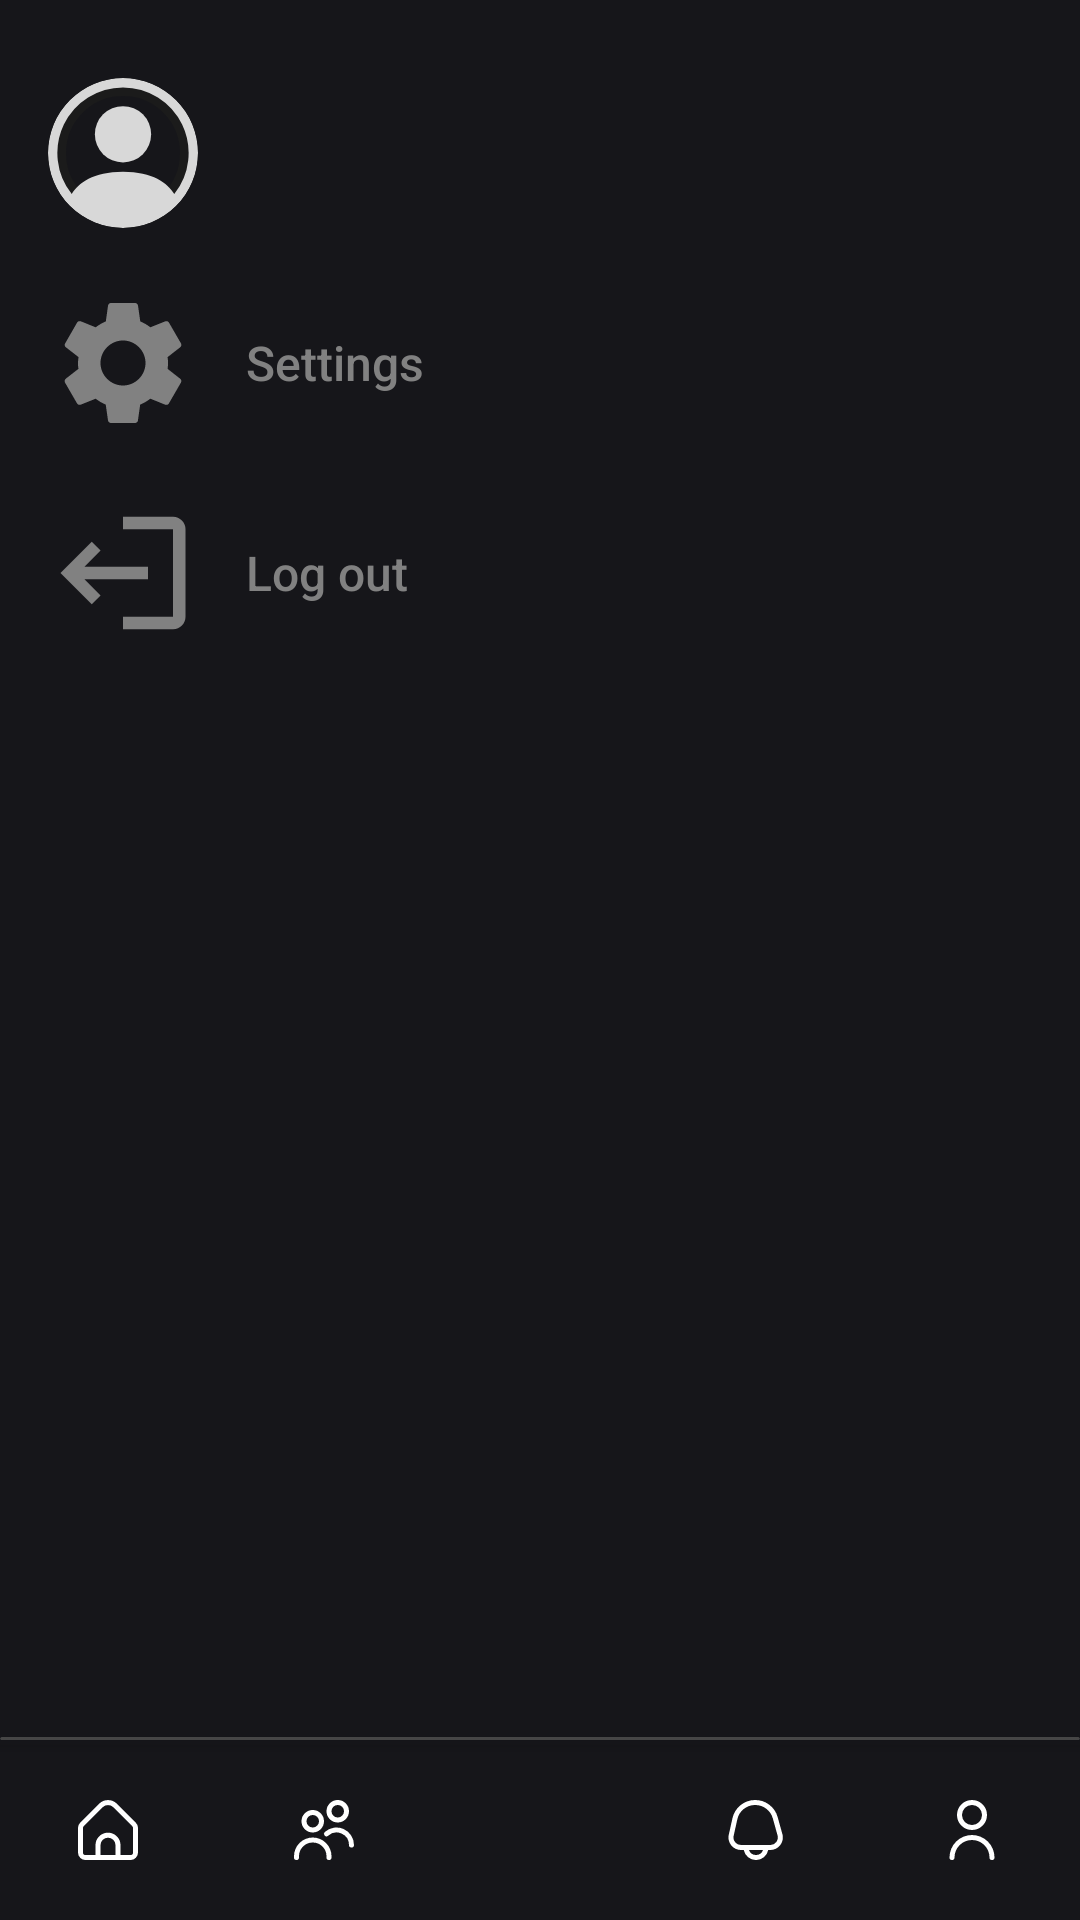

Screen size 1080 x 1920. Icon name, then its box in pixels as (x1=x1, y1=y1, x2=x2, y2=y2):
friends: (x1=294, y1=1800, x2=354, y2=1860)
home: (x1=78, y1=1800, x2=138, y2=1860)
notification: (x1=728, y1=1800, x2=783, y2=1860)
profile: (x1=48, y1=78, x2=198, y2=228), (x1=949, y1=1800, x2=995, y2=1860)
